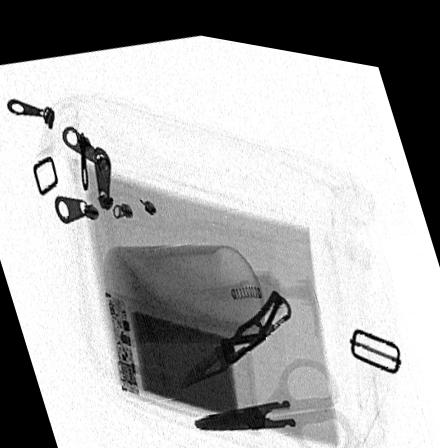Knife: (175, 276, 295, 382)
Powerbank: (99, 277, 258, 425)
Scissors: (189, 343, 352, 448)
